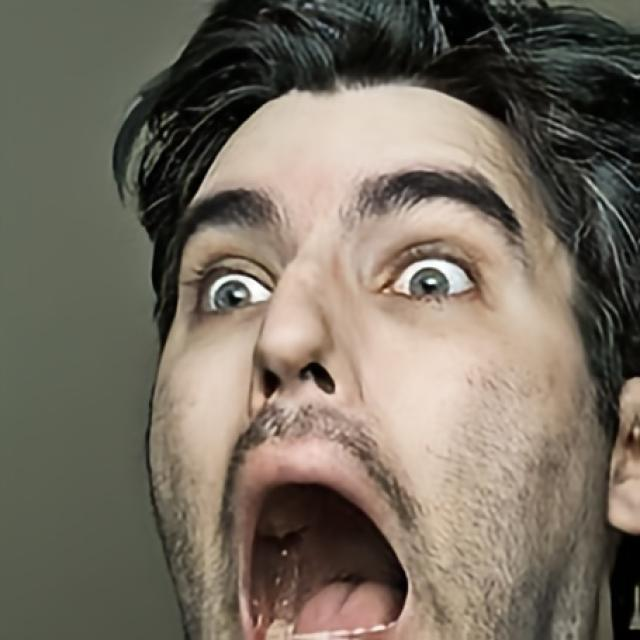fear: (144, 66, 606, 640)
